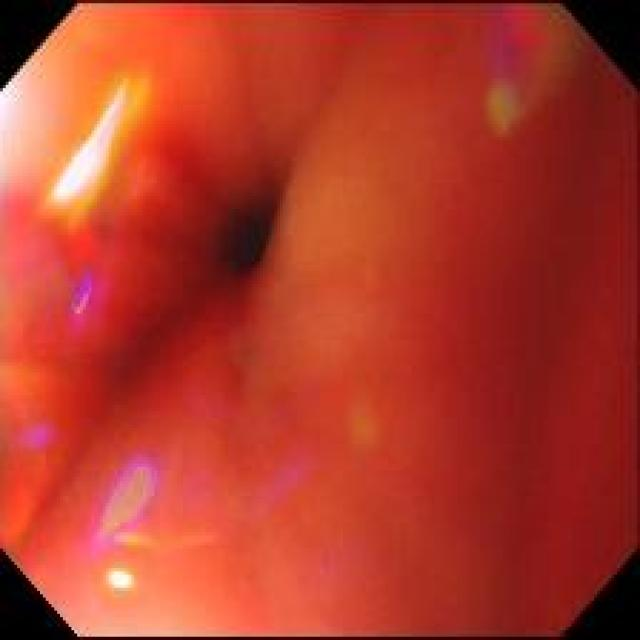blur: (2, 2, 634, 635)
color misalignment: (88, 453, 161, 563), (491, 2, 556, 76), (57, 261, 120, 334), (62, 212, 118, 264), (490, 76, 530, 133), (17, 419, 54, 450)
contrast: (206, 167, 290, 298)
specularity: (46, 76, 142, 220), (106, 567, 130, 590)
